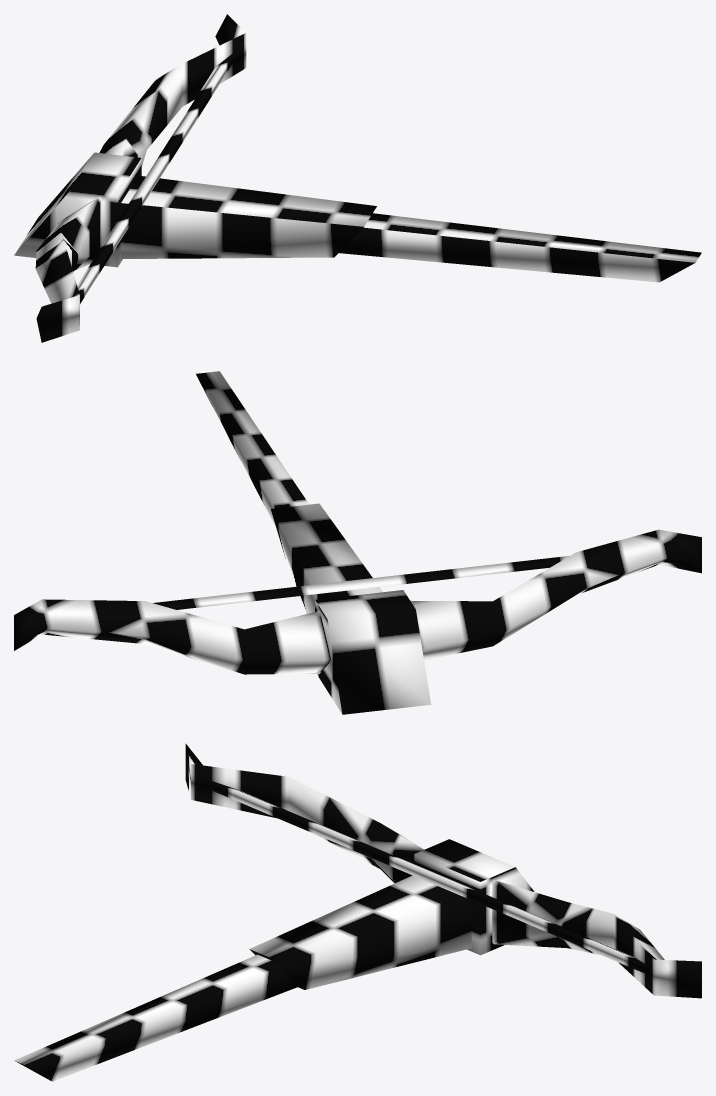
The model's file is initwecb1.dae.
3 views of the same model, one above another, from view 1: azimuth 30°, elevation 25°; view 2: azimuth 150°, elevation 25°; view 3: azimuth 270°, elevation 25° (orthographic). The views are drawn at different scales.
Parts seen in each view (by area): view 1: weapon; view 2: weapon; view 3: weapon.
Boxes of the visible parts, bbox=[...] form: weapon: bbox=[14, 14, 701, 342]; weapon: bbox=[14, 371, 701, 714]; weapon: bbox=[14, 743, 701, 1081].
Size of the model in its own units: 2.14 by 2.14 by 0.3244.
Materials: 1 (1 with a texture image).
